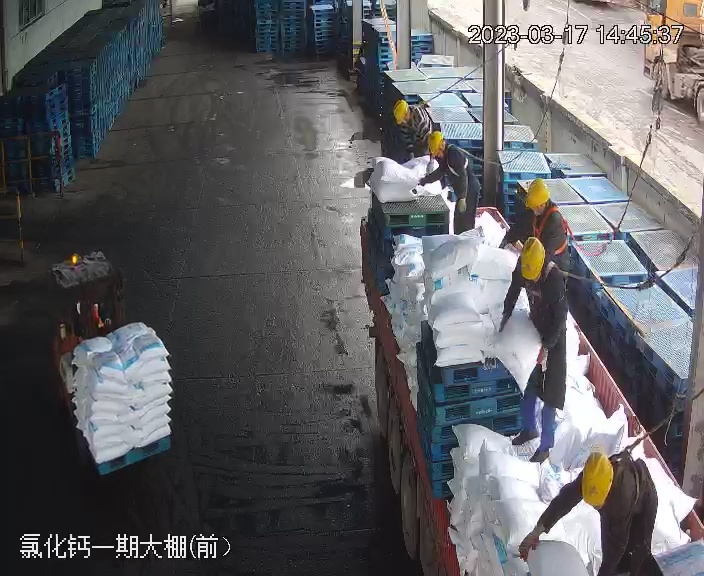belt: (605, 435, 650, 500), (528, 205, 580, 255), (517, 260, 564, 295), (397, 98, 431, 132), (440, 143, 474, 175)
head: (504, 231, 569, 301), (578, 450, 641, 518), (510, 180, 570, 237), (388, 97, 436, 165), (424, 130, 467, 170), (392, 98, 431, 131)
helmet: (581, 454, 613, 508), (518, 238, 546, 279), (523, 178, 551, 209), (426, 130, 445, 155), (392, 98, 410, 124)
people: (496, 222, 571, 473), (519, 446, 664, 570), (415, 130, 482, 236), (387, 97, 438, 167)
truck: (349, 154, 704, 576)
